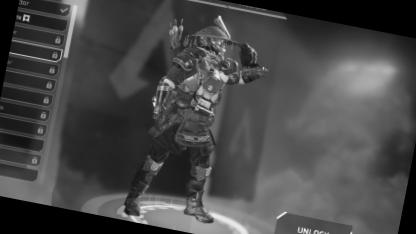Target: (143, 16, 240, 201)
